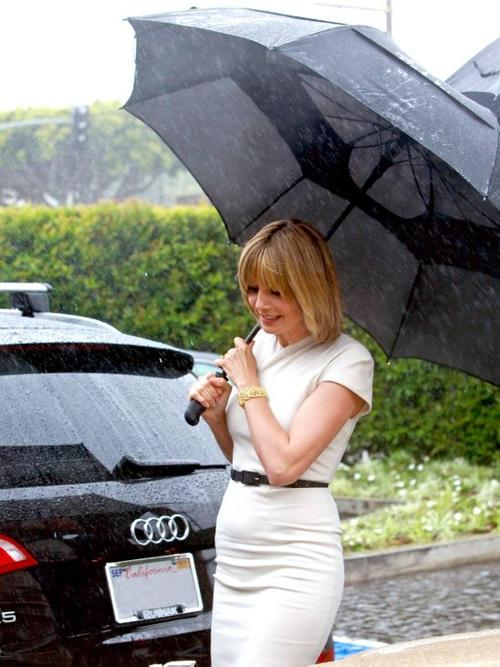person: (190, 220, 376, 667)
